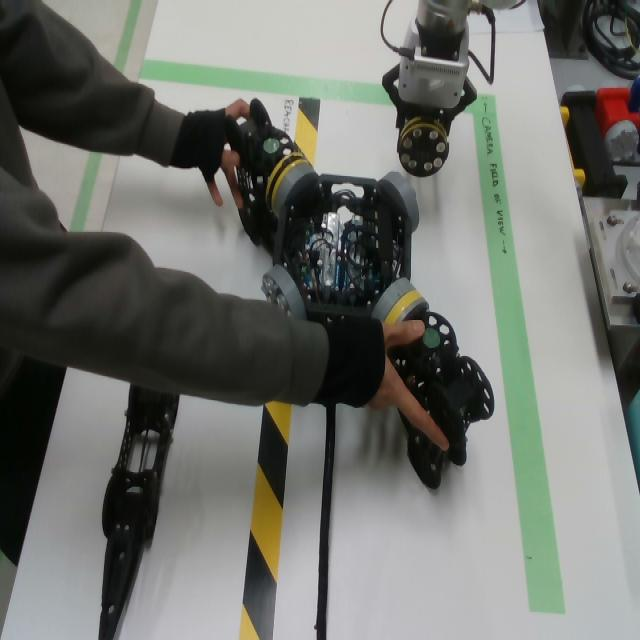body: (272, 175, 411, 317)
body_connector: (261, 265, 307, 323), (379, 172, 420, 232), (274, 163, 319, 217), (371, 277, 416, 324)
gripper: (382, 57, 477, 135)
leg: (385, 291, 495, 491), (98, 385, 179, 640), (225, 99, 309, 256), (397, 104, 449, 177)
leg_connector: (397, 116, 449, 179), (265, 152, 310, 212), (384, 291, 429, 325)
leg_marker: (423, 328, 440, 347), (263, 139, 280, 153)
